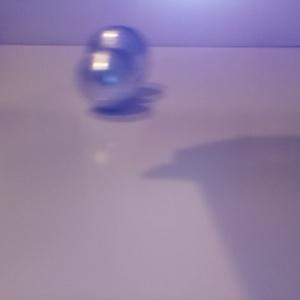alive_ball: (83, 24, 148, 87), (74, 48, 138, 107)
